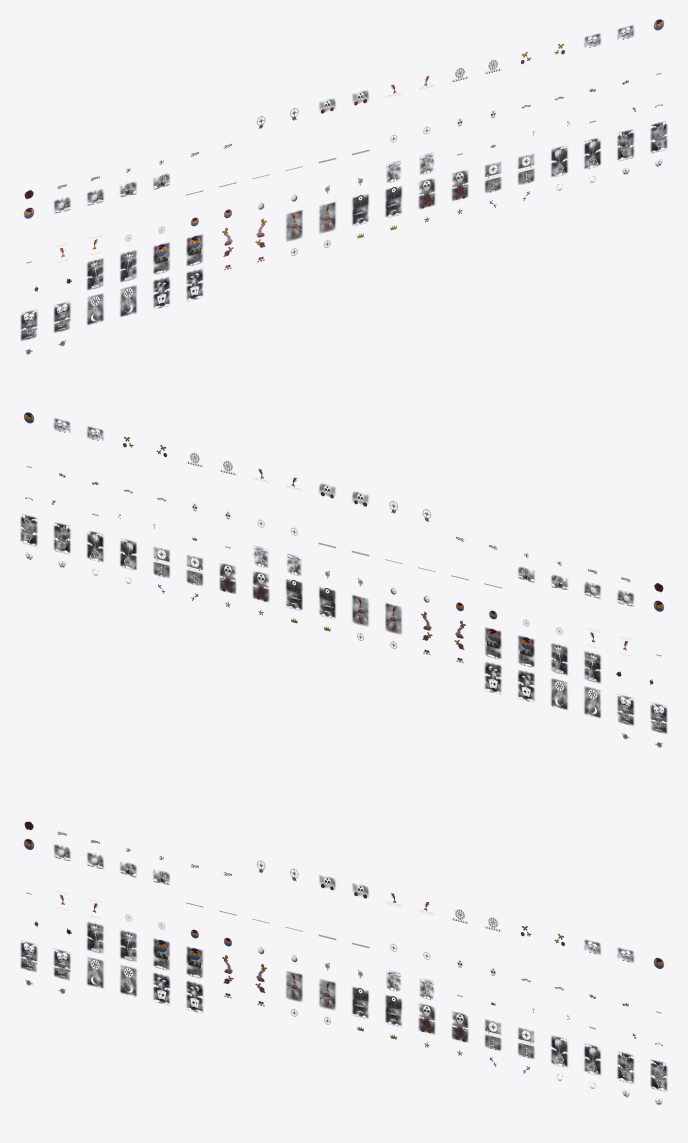
Rendered from NCInkSwatches_2.glb.
3 views of the same model, one above another, from view 1: azimuth 30°, elevation 25°; view 2: azimuth 150°, elevation 25°; view 3: azimuth 330°, elevation 25° (orthographic).
Size of the model in its own units: 43.8 by 13 by 0.
Materials: 102 (102 with a texture image).
